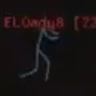hacks_2: (3, 15, 96, 82)
